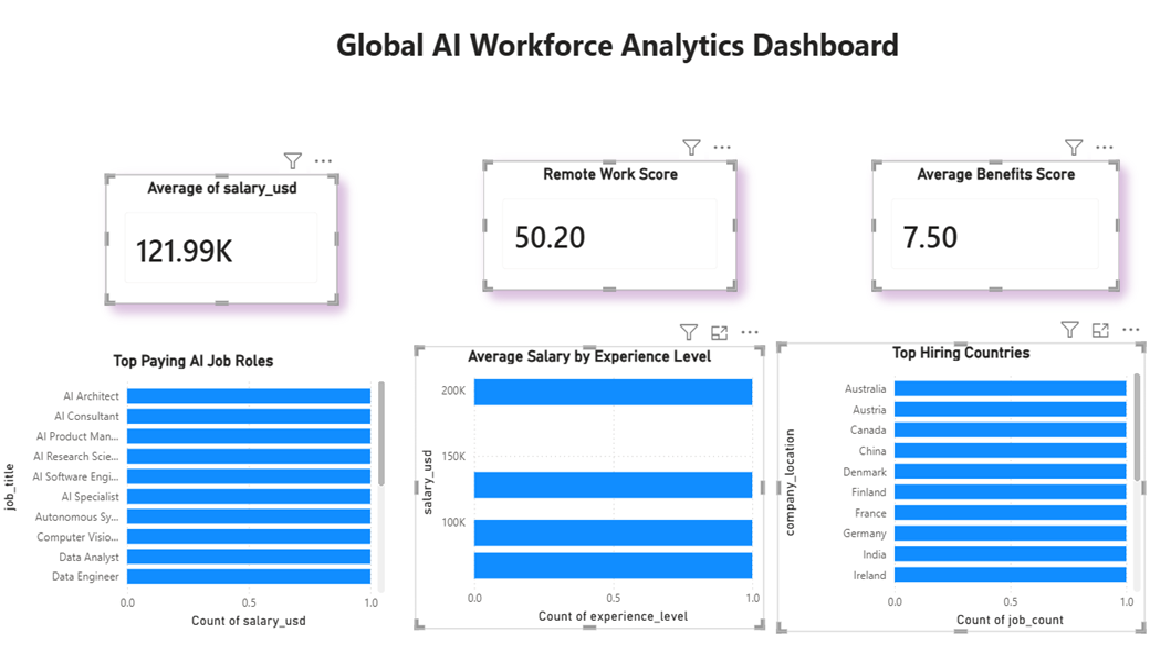

This screenshot's page, from the dashboard's own definition file:
{"tool":"powerbi","page":{"name":"Page 1","canvas":[1280,720],"ordinal":0},"visuals":[{"type":"cardVisual","title":"Average of salary_usd","fields":{"Data":["Avg(cleaned_jobs.salary_usd)"]},"box":[119.8,199.3,256.8,138.2],"z":1},{"type":"cardVisual","title":"Remote Work Score","fields":{"Data":["Avg(cleaned_jobs.remote_ratio)"]},"box":[538,184.6,280,138.2],"z":4},{"type":"cardVisual","title":"Average Benefits Score","fields":{"Data":["Avg(cleaned_jobs.benefits_score)"]},"box":[968.5,184.6,272.7,138.2],"z":5},{"type":"clusteredBarChart","title":"Top Paying AI Job Roles","fields":{"Category":["salary_summary.job_title"],"Y":["CountNonNull(salary_summary.salary_usd)"]},"box":[0,387.6,434.1,302],"z":6},{"type":"clusteredBarChart","title":"Average Salary by Experience Level","fields":{"Category":["experience_summary.salary_usd"],"Y":["CountNonNull(experience_summary.experience_level)"]},"box":[462.2,382.7,386.4,302],"z":7},{"type":"clusteredBarChart","title":"Top Hiring Countries","fields":{"Category":["country_summary.company_location"],"Y":["CountNonNull(country_summary.job_count)"]},"box":[863.3,379.1,407.2,309.4],"z":8},{"type":"textbox","box":[258,33,857.2,92.9],"z":9}]}

Visuals, with their boxes in screenshot pixels (x1, y1, x2, y2), scaled from the page's 1280x720 canvas onto the 1152x648 screenshot:
"Average of salary_usd" cardVisual: bbox=[108, 179, 339, 304]
"Remote Work Score" cardVisual: bbox=[484, 166, 736, 291]
"Average Benefits Score" cardVisual: bbox=[872, 166, 1117, 291]
"Top Paying AI Job Roles" clusteredBarChart: bbox=[0, 349, 391, 621]
"Average Salary by Experience Level" clusteredBarChart: bbox=[416, 344, 764, 616]
"Top Hiring Countries" clusteredBarChart: bbox=[777, 341, 1143, 620]
textbox: bbox=[232, 30, 1004, 113]
